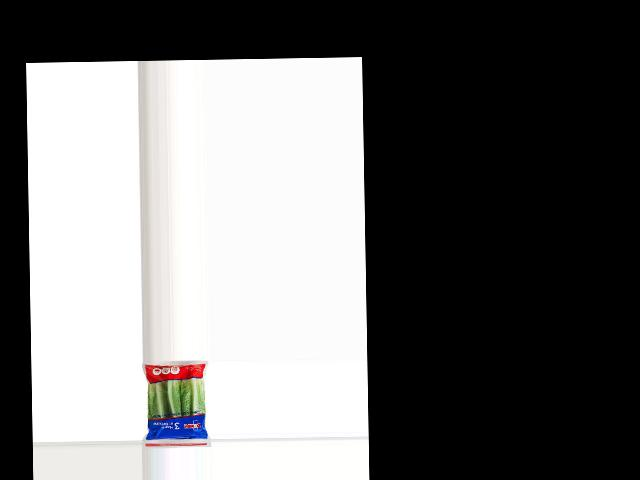lettuce: (143, 360, 208, 441)
